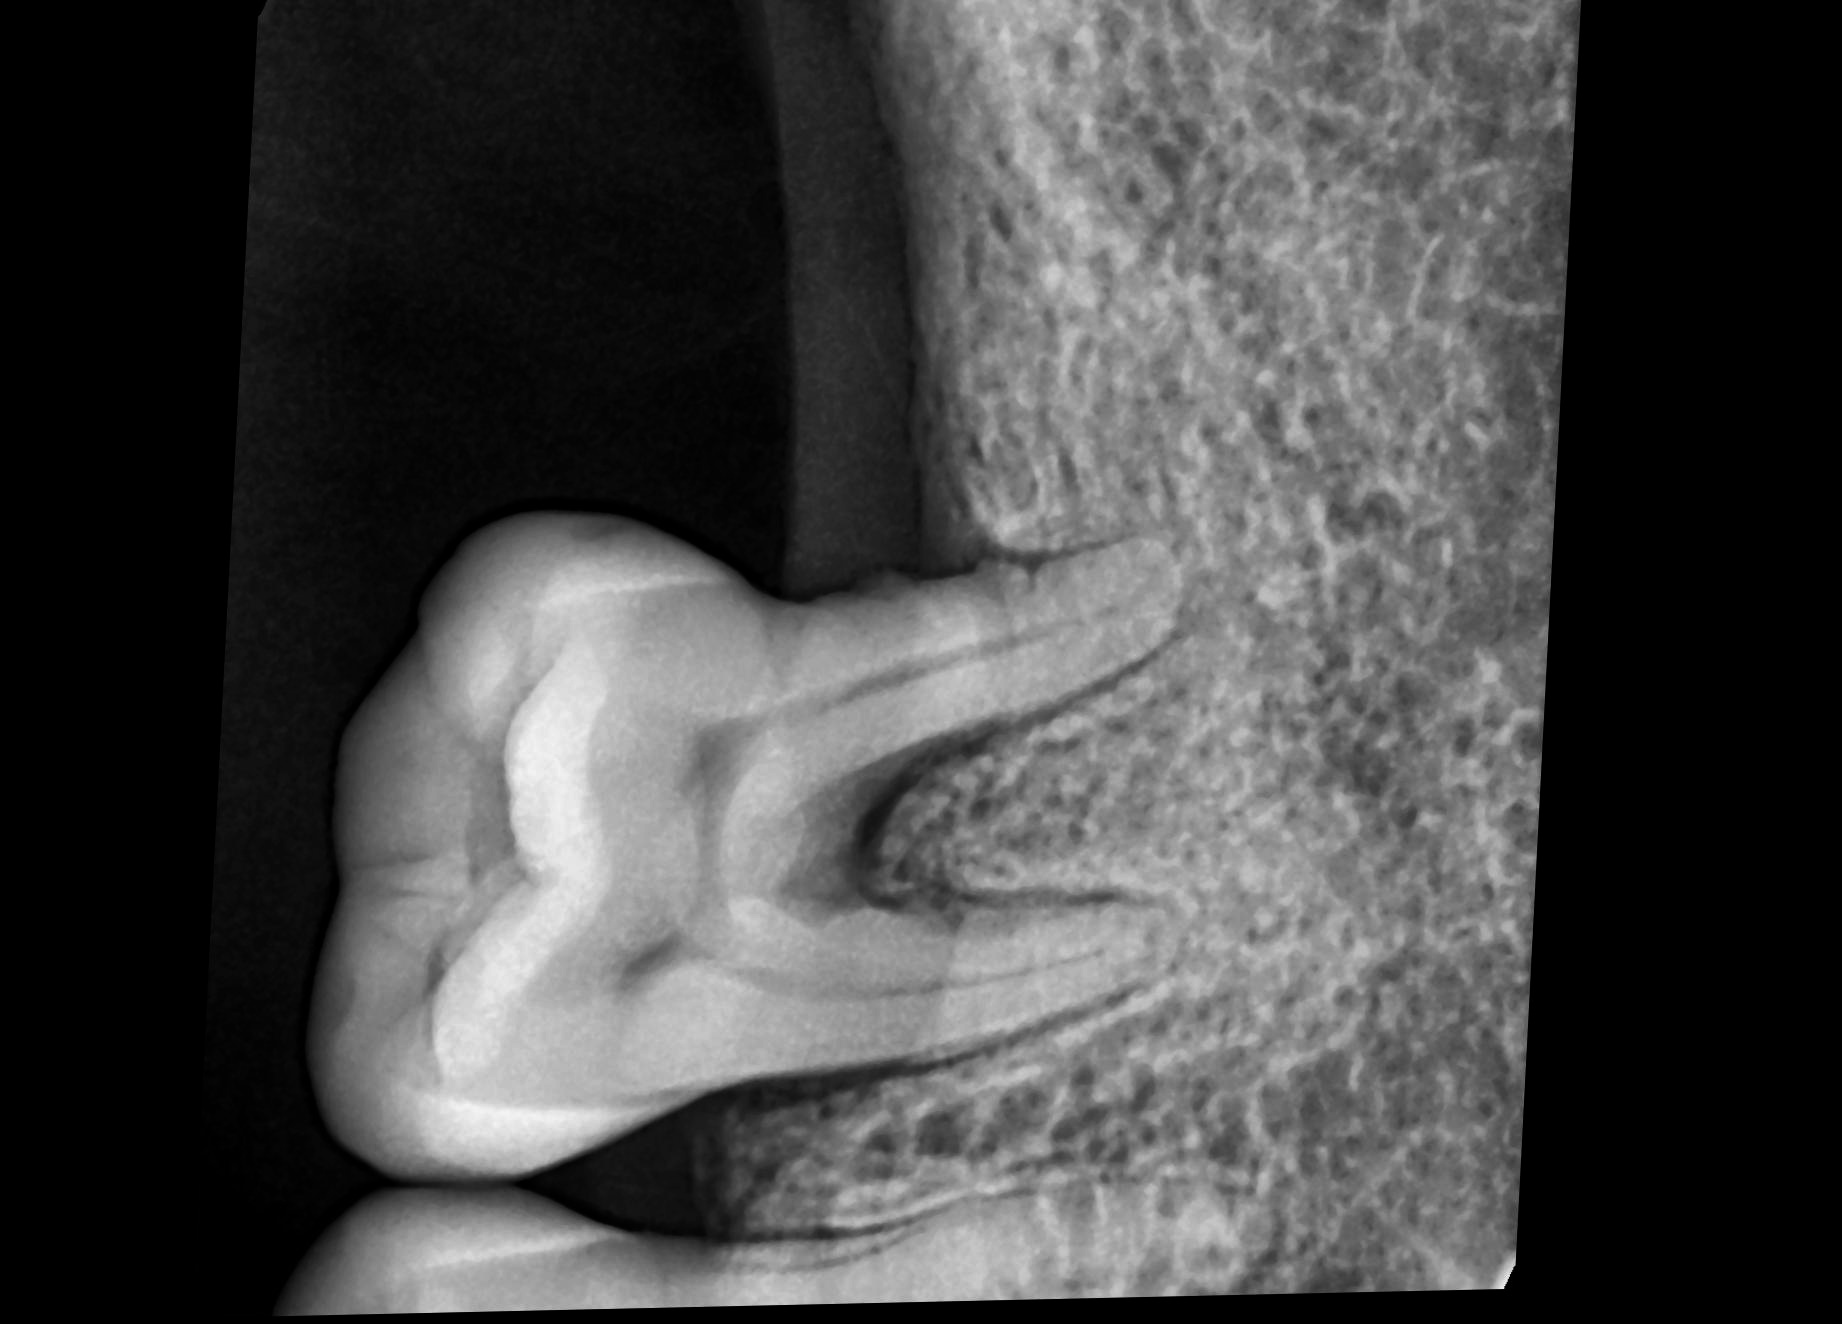Individual Tooth: (320, 514, 1190, 1184), (293, 1183, 1289, 1318)
